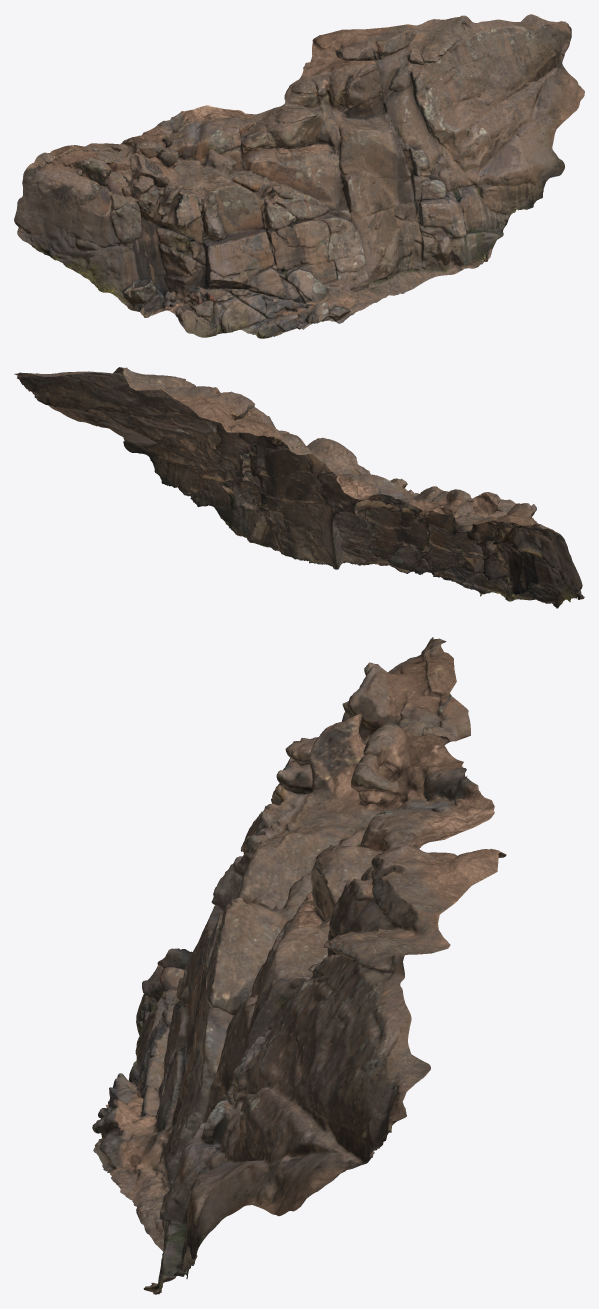
The model's file is namaqualand_cliff_02.glb.
3 renders of one model, top to bottom at view 1: azimuth 30°, elevation 25°; view 2: azimuth 150°, elevation 25°; view 3: azimuth 270°, elevation 25°, orthographic. The views are drawn at different scales.
Parts seen in each view (by area): view 1: drone_rock_02_LOD0; view 2: drone_rock_02_LOD0; view 3: drone_rock_02_LOD0.
Part boxes in pixels (box(x1,y1,x2,y2)): drone_rock_02_LOD0: box(14, 14, 584, 338); drone_rock_02_LOD0: box(14, 367, 584, 608); drone_rock_02_LOD0: box(92, 637, 506, 1294).
Bounding box in the file's own units: 20.23 × 7.18 × 6.59.
Materials: 1 (1 with a texture image).
